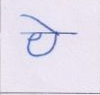e_matra: (21, 14, 60, 31)
